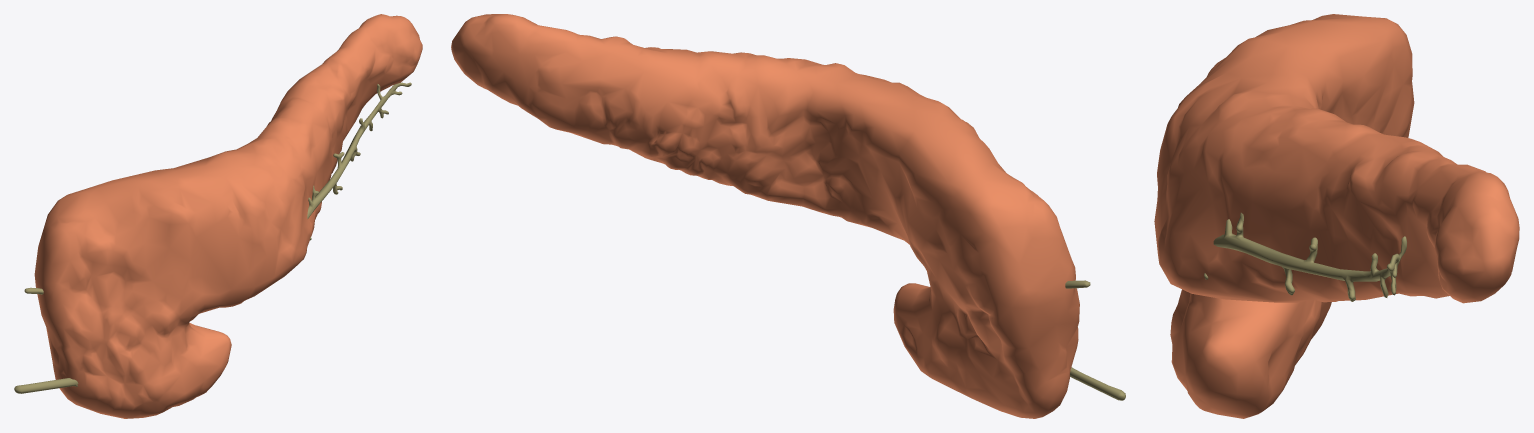
File: Pancreas.fbx
3 views of the same model, side by side, from view 1: azimuth 30°, elevation 25°; view 2: azimuth 150°, elevation 25°; view 3: azimuth 270°, elevation 25° (orthographic). The views are drawn at different scales.
Parts seen in each view (by area): view 1: Pancreas; view 2: Pancreas; view 3: Pancreas.
Part boxes in pixels (x1=…): Pancreas: x1=14, y1=14, x2=422, y2=418; Pancreas: x1=451, y1=14, x2=1125, y2=418; Pancreas: x1=1154, y1=14, x2=1519, y2=418.
Bounding box in the file's own units: 13.07 × 7.37 × 5.1.
